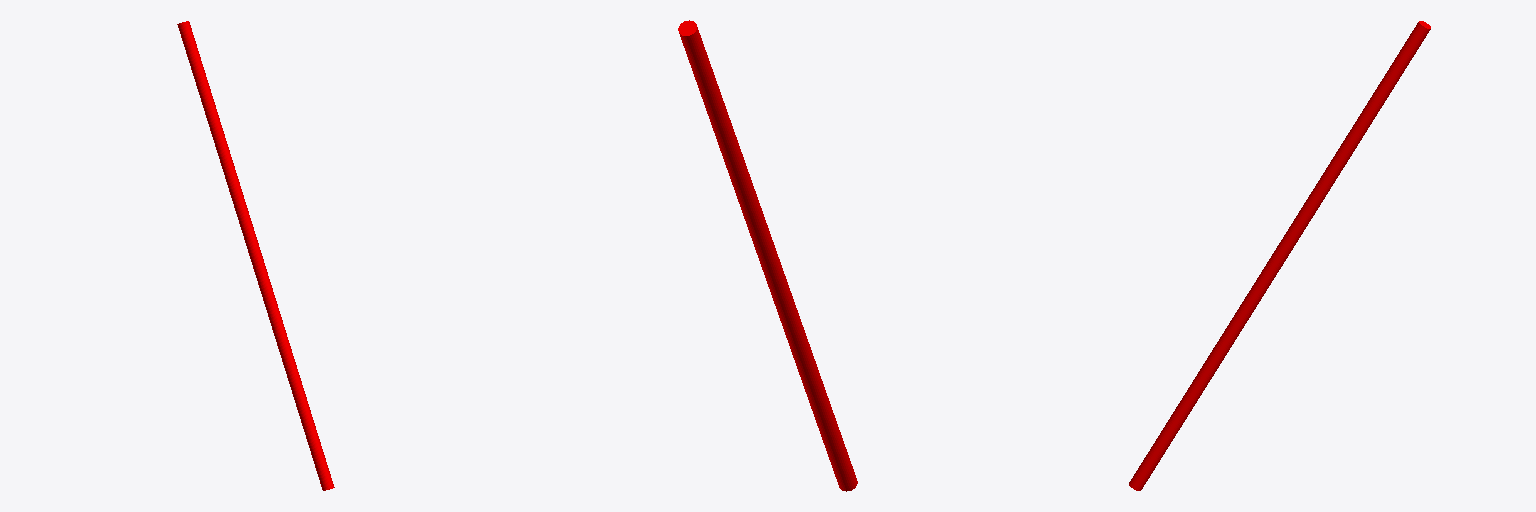
The robot description file, URDF, robot "tree_94.urdf":
<?xml version='1.0' encoding='utf-8'?>
<robot name="tree_94.urdf">
  <link name="branch_0">
    <inertial>
      <origin xyz="0.0 0.0 0.0" rpy="0.0 -0.0 0.0" />
      <mass value="1.0" />
      <inertia ixx="1.0" ixy="0.0" ixz="0.0" iyy="1.0" iyz="0.0" izz="1.0" />
    </inertial>
    <visual name="branch_0_visual">
      <geometry>
        <cylinder radius="0.03165293706224759" length="2.5308321423408247" />
      </geometry>
      <material name="semantic_material" />
      <origin xyz="-0.06643657072696754 0.637859920145357 1.0908706328059994" rpy="-6.938893903907228e-18 0.531466487693515 1.6745775457059344" />
    </visual>
    <collision name="branch_0_collision">
      <geometry>
        <cylinder radius="0.03165293706224759" length="2.5308321423408247" />
      </geometry>
      <origin xyz="-0.06643657072696754 0.637859920145357 1.0908706328059994" rpy="-6.938893903907228e-18 0.531466487693515 1.6745775457059344" />
    </collision>
  </link>
  <material name="semantic_material">
    <color rgba="1. 0. 0. 1." />
  </material>
</robot>

--- What the picture shows (computed from the rendered views, not written in the file) ---
Views: 3 orthographic renders of the robot side by side, from view 1: azimuth 30°, elevation 25°; view 2: azimuth 150°, elevation 25°; view 3: azimuth 270°, elevation 25°.
Robot: tree_94.urdf — 1 links, 0 joints (none); root link branch_0; default pose: every joint at zero.
Visible links, largest first — view 1: branch_0; view 2: branch_0; view 3: branch_0.
Link boxes in pixels (x1,y1,x2,y2): branch_0: (177,21,334,490); branch_0: (678,20,857,491); branch_0: (1129,21,1430,490).
Size in the robot's own frame: 0.1958 by 1.33 by 2.21 metres.
Geometry: primitives only (box / cylinder / sphere), no mesh files.
